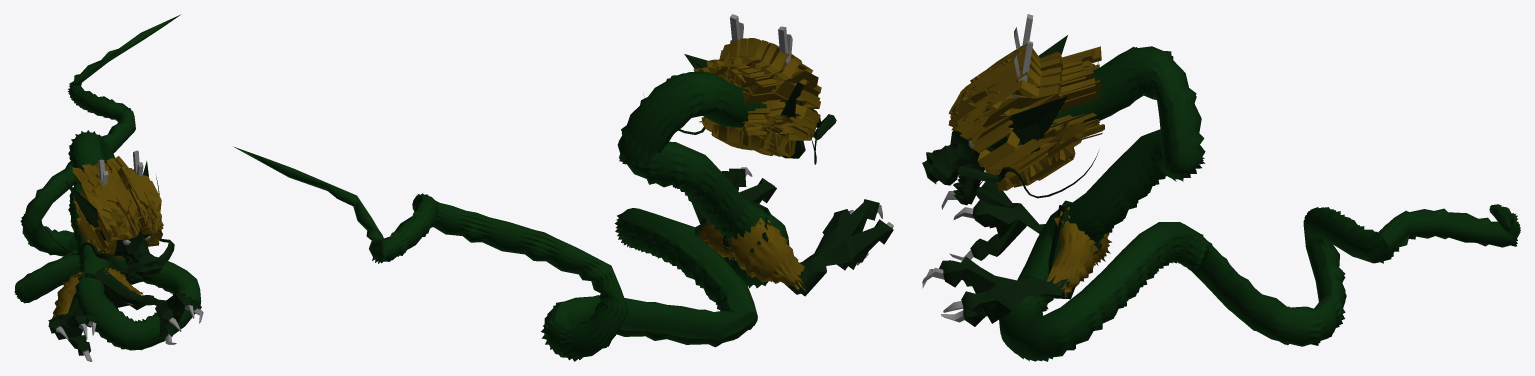
Rendered from ryuu_Idle2.obj.
3 views of the same model, side by side, from view 1: azimuth 30°, elevation 25°; view 2: azimuth 150°, elevation 25°; view 3: azimuth 270°, elevation 25° (orthographic). The views are drawn at different scales.
Size of the model in its own units: 49.04 by 30.2 by 54.65.
